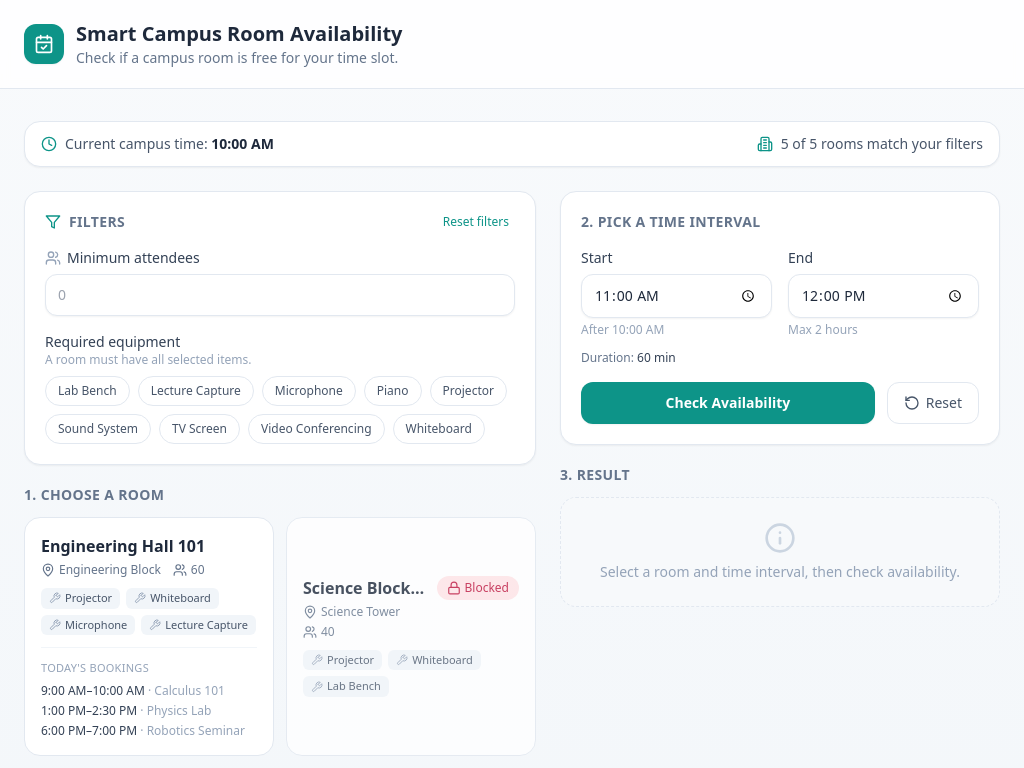
Scenario: Integration: select room → check availability → result › Integration: Reset button restores all rooms and clears result
Type "999" into the number field labelled "Minimum attendees".
click(280, 295); type("999")  # box x1=45 y1=274 x2=515 y2=316
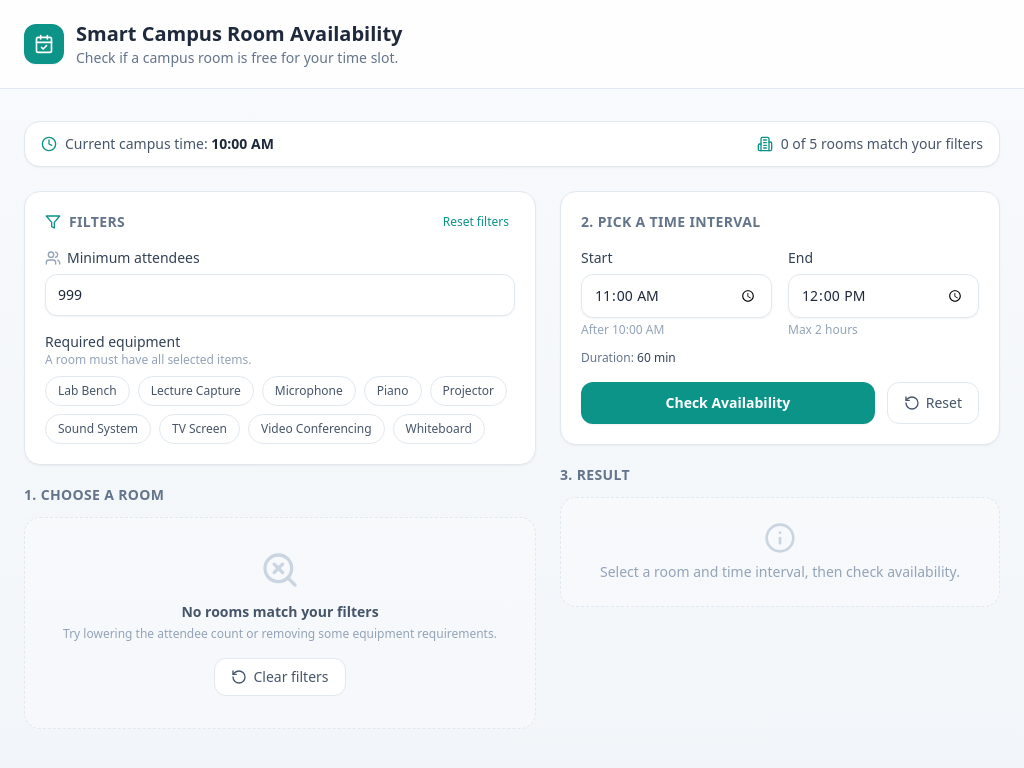
Result: the text "No rooms match your filters" is shown at x1=181 y1=602 x2=379 y2=621
Click the button "Reset filters".
click(476, 222)  # box x1=437 y1=212 x2=515 y2=232
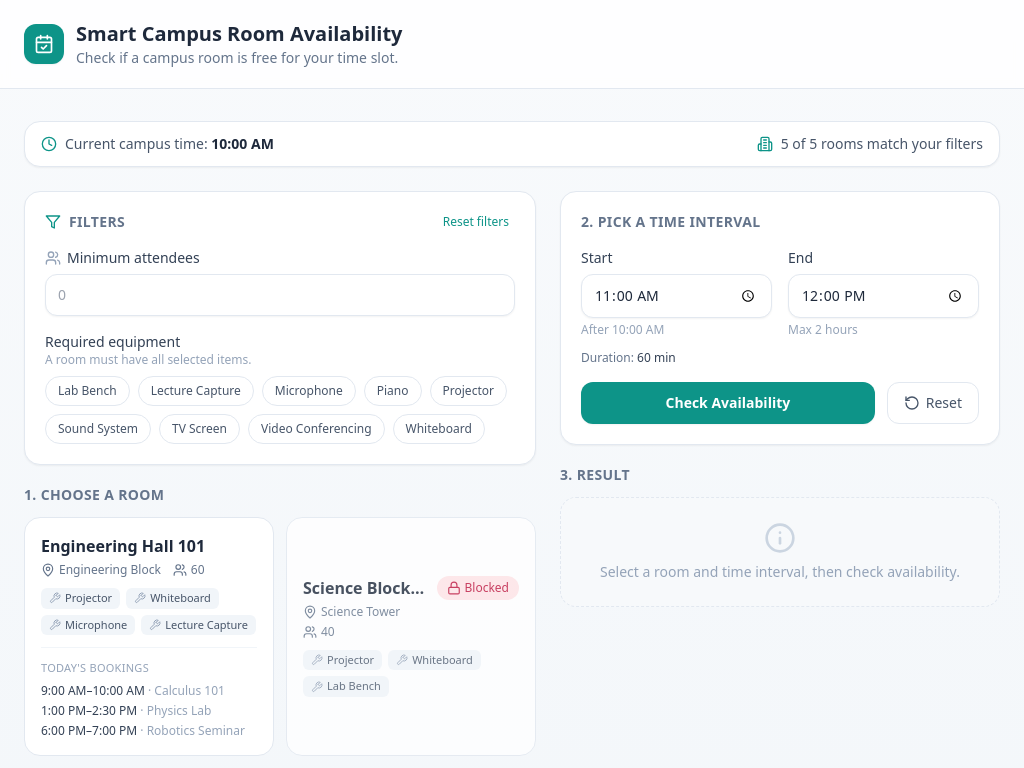
Result: the text "No rooms match your filters" is gone
